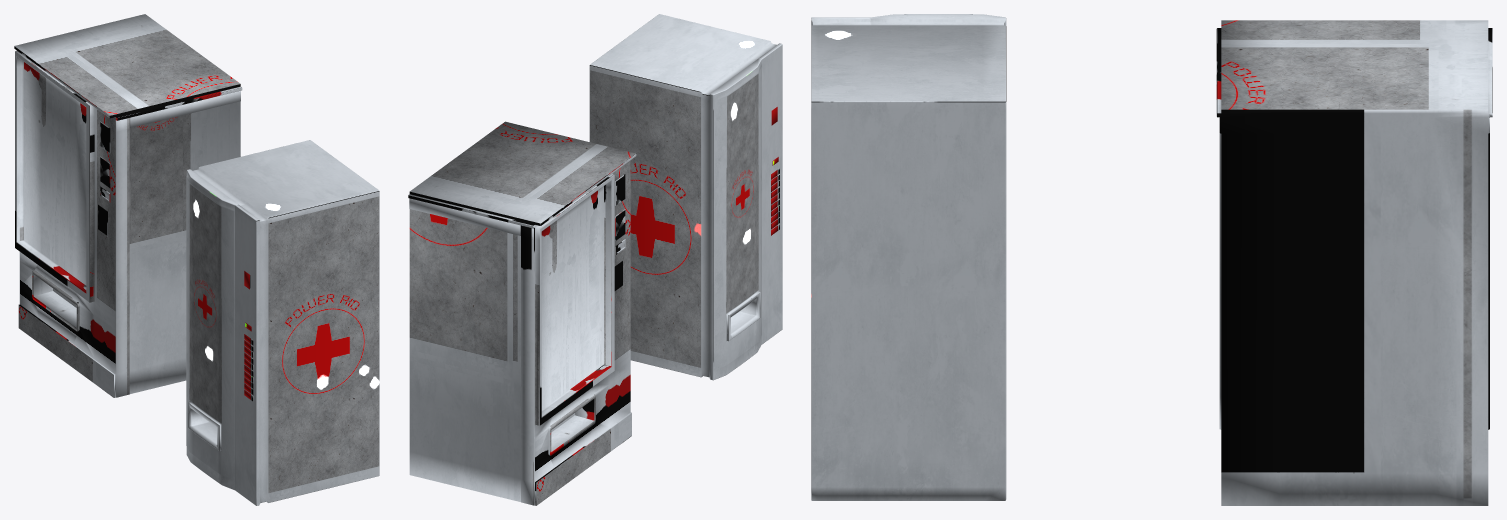
The model's file is Vending machines EXPORT.fbx.
3 renders of one model, left to right at view 1: azimuth 30°, elevation 25°; view 2: azimuth 150°, elevation 25°; view 3: azimuth 270°, elevation 25°, orthographic. The views are drawn at different scales.
Visible parts, largest first — view 1: VENDING_SNACKS, VENDING_DRINKS; view 2: VENDING_SNACKS, VENDING_DRINKS; view 3: VENDING_SNACKS, VENDING_DRINKS.
Part boxes in pixels (<box>): VENDING_SNACKS: <box>14,14,242,397</box>; VENDING_DRINKS: <box>186,140,379,505</box>; VENDING_SNACKS: <box>408,121,636,505</box>; VENDING_DRINKS: <box>589,14,782,380</box>; VENDING_SNACKS: <box>1216,20,1492,505</box>; VENDING_DRINKS: <box>811,14,1006,500</box>.
Bounding box in the file's own units: 92.94 × 183 × 283.
